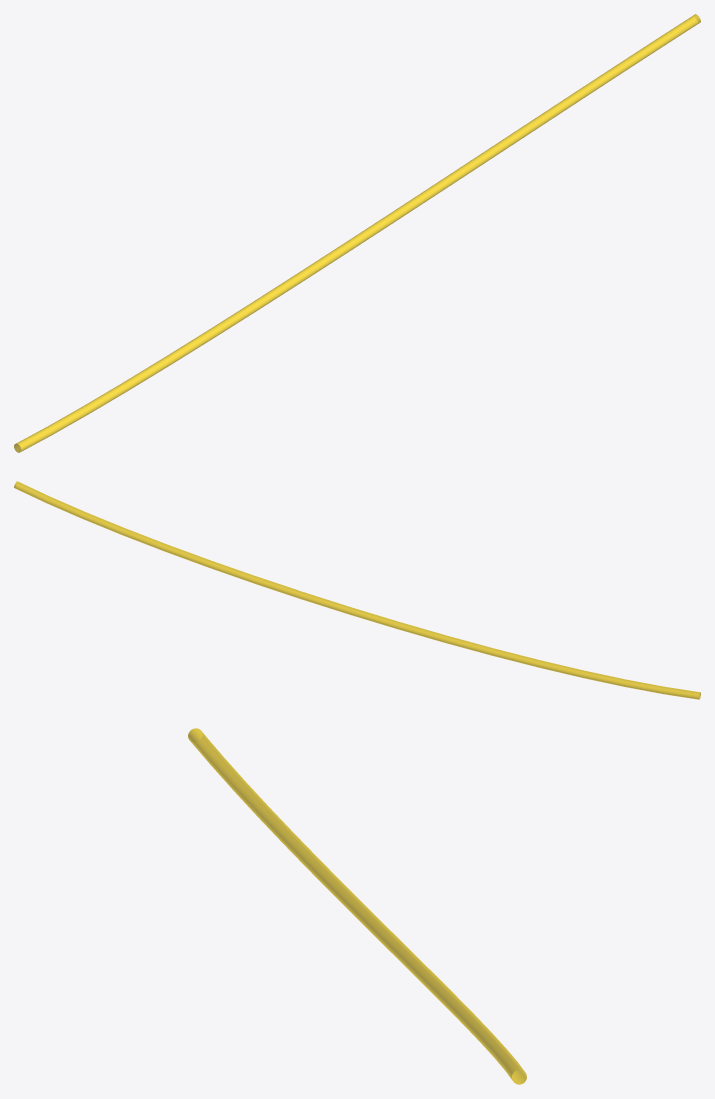
File: Event_84804159_track_107.fbx
3 views of the same model, one above another, from view 1: azimuth 30°, elevation 25°; view 2: azimuth 150°, elevation 25°; view 3: azimuth 270°, elevation 25° (orthographic). The views are drawn at different scales.
Parts seen in each view (by area): view 1: Model; view 2: Model; view 3: Model.
Part boxes in pixels (<box>): Model: <box>14,14,700,452</box>; Model: <box>14,481,700,699</box>; Model: <box>188,728,526,1084</box>.
Size of the model in its own units: 3.68 by 0.7562 by 0.8915.
